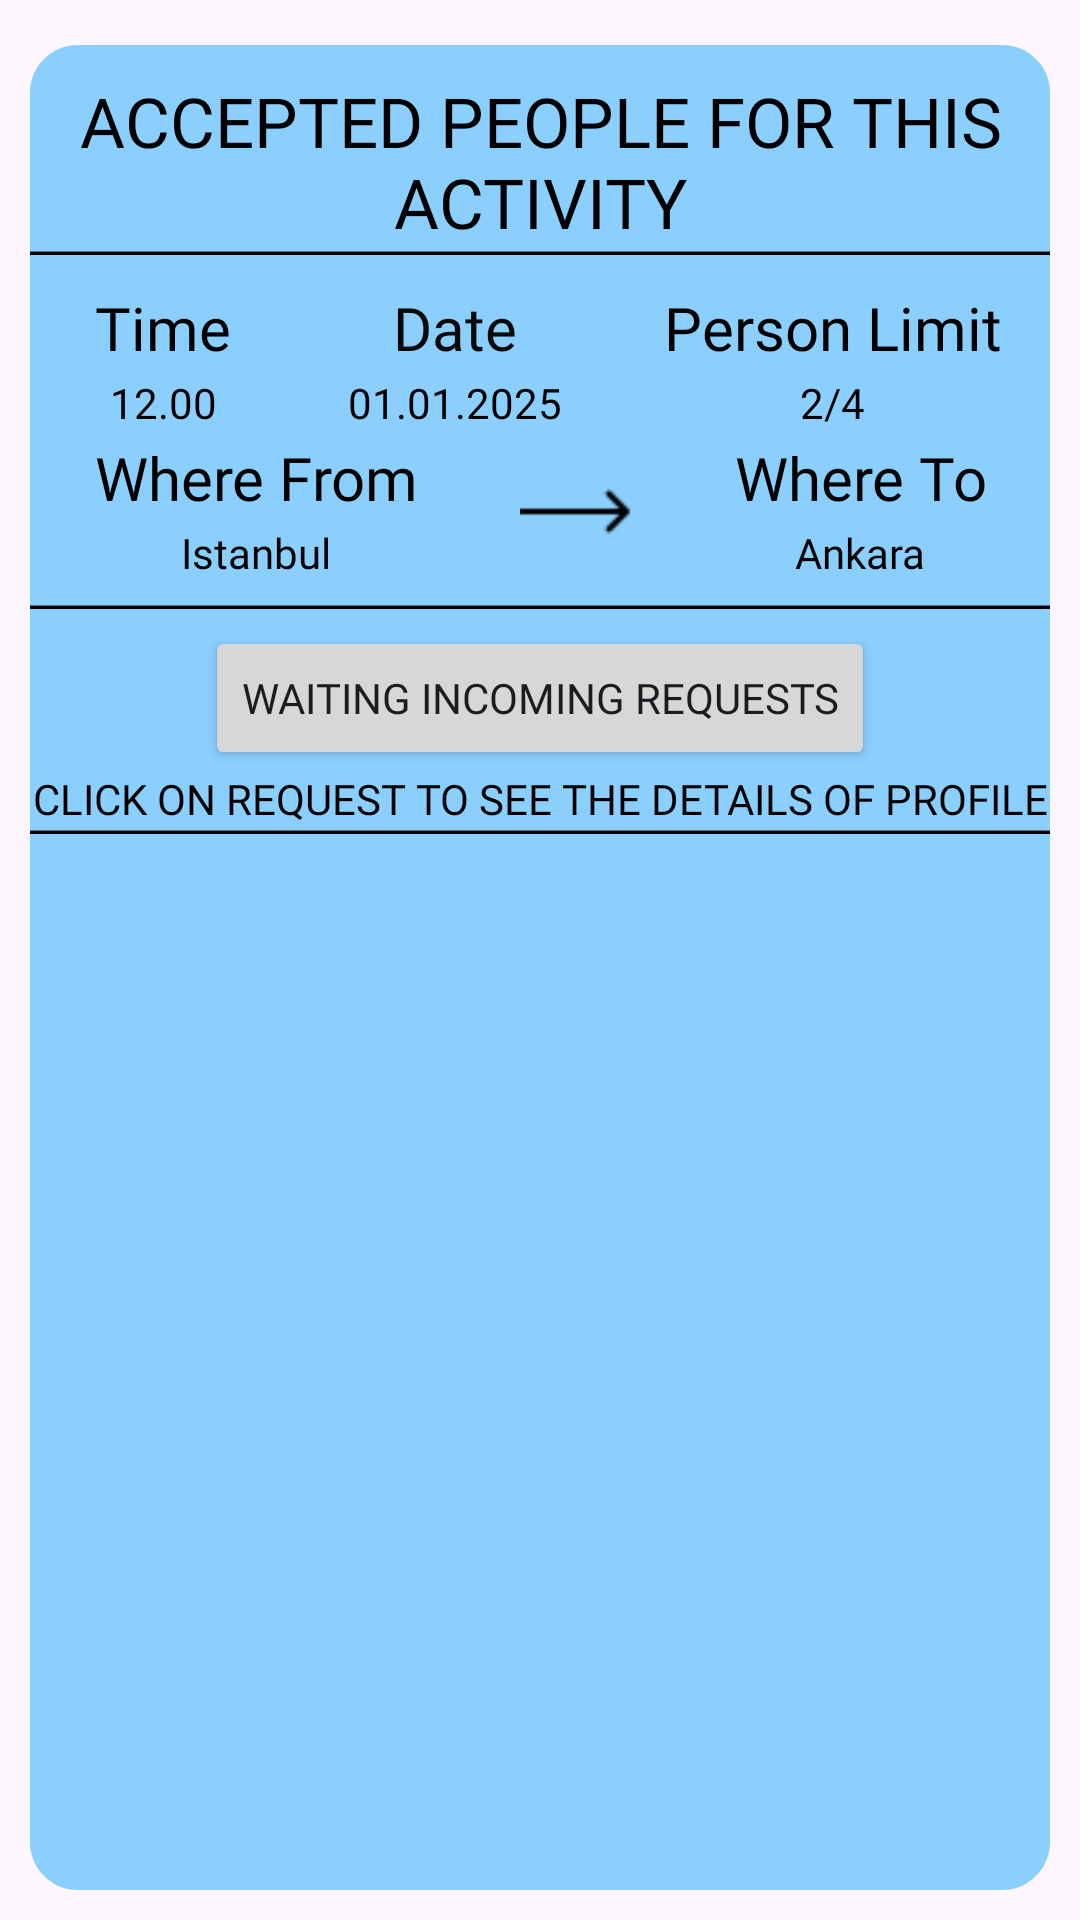

Icon bounding boxes for this 1080 x 1920 phone screenshot, format (x1, y1, x2, y2):
arrow: (520, 489, 631, 534)
